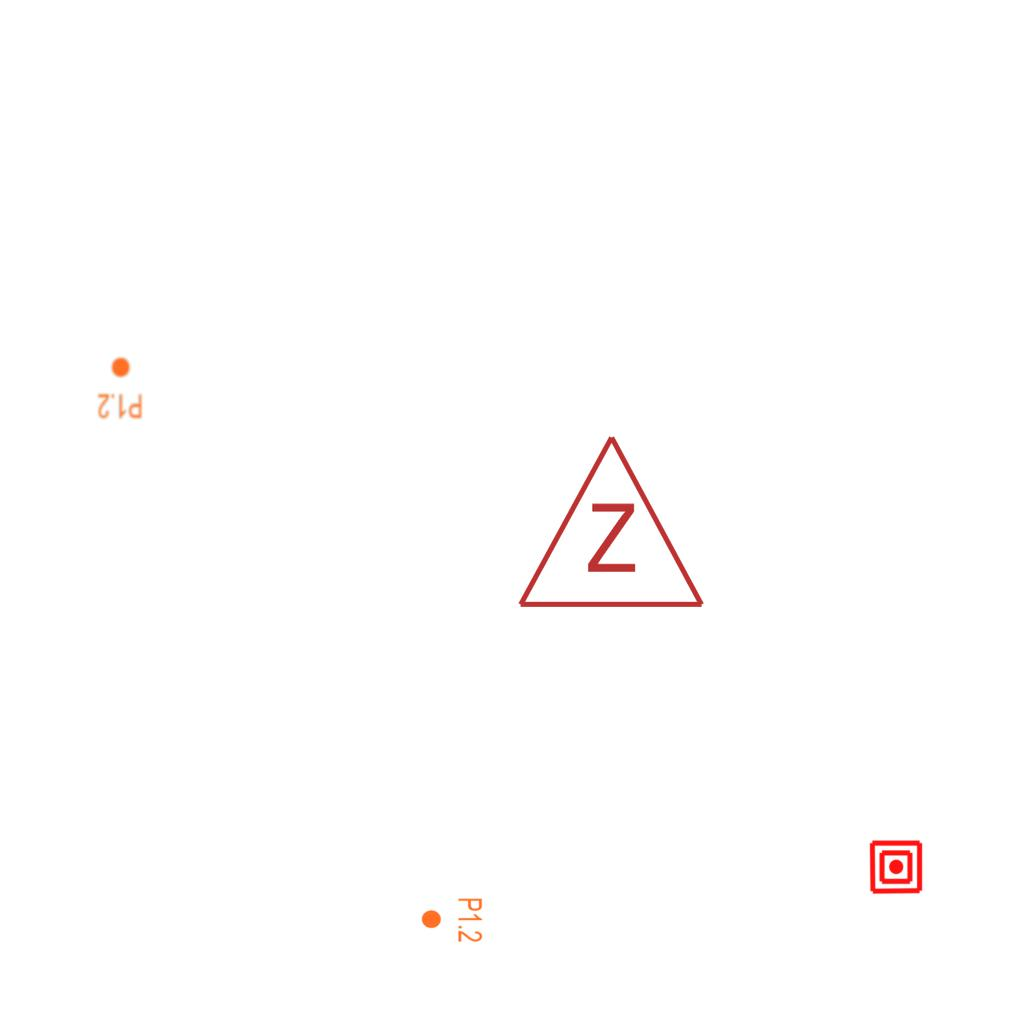Downlight_LED_Einbauleuchten_Flur: (420, 897, 484, 943), (97, 356, 143, 420)
NAM-Nichtautomatischer_Melder: (868, 839, 924, 895)
Zimmersignalleuchte: (511, 422, 707, 622)
